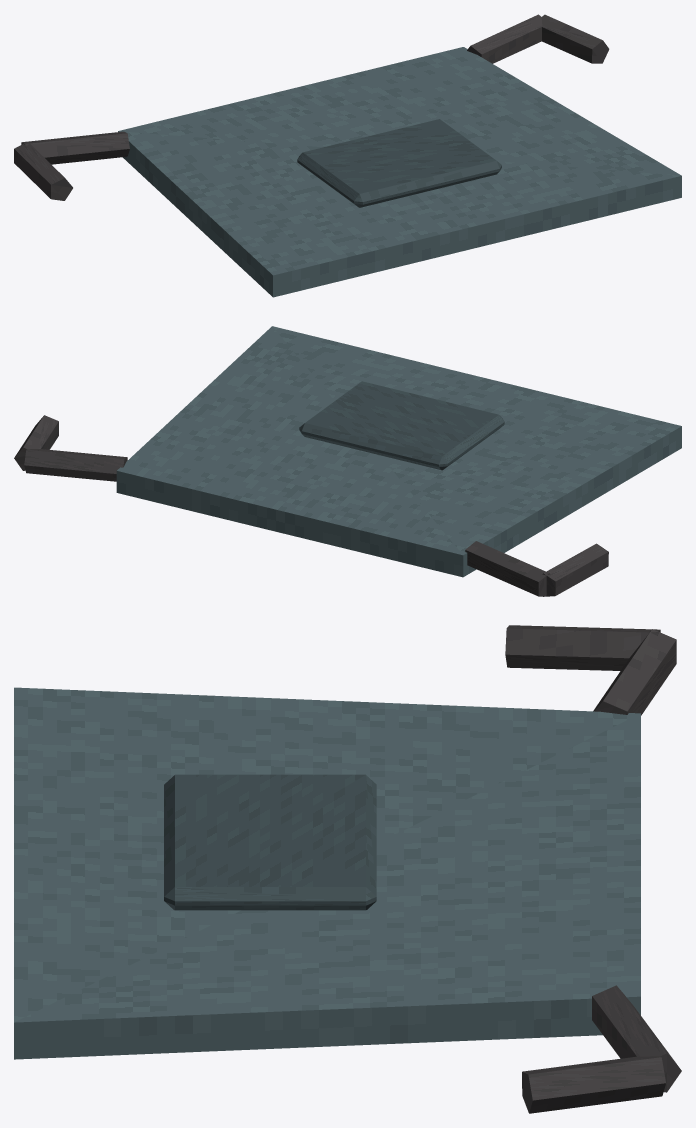
File: waist_apron_short.glb
3 renders of one model, top to bottom at view 1: azimuth 30°, elevation 25°; view 2: azimuth 150°, elevation 25°; view 3: azimuth 270°, elevation 25°, orthographic. The views are drawn at different scales.
Visible parts, largest first — view 1: block_waist apron, block_front pocket, block_waist ties 0 (×2), block_waist ties 1 (×2); view 2: block_waist apron, block_front pocket, block_waist ties 0 (×2), block_waist ties 1 (×2); view 3: block_waist apron, block_front pocket, block_waist ties 1 (×2), block_waist ties 0 (×2).
Part boxes in pixels (x1,y1,x2,y2): block_waist apron: [118, 47, 681, 297]; block_front pocket: [297, 119, 501, 207]; block_waist ties 0 (×2): [21, 14, 542, 164]; block_waist ties 1 (×2): [14, 14, 609, 200]; block_waist apron: [116, 326, 681, 577]; block_front pocket: [299, 381, 504, 470]; block_waist ties 0 (×2): [24, 449, 550, 596]; block_waist ties 1 (×2): [14, 415, 608, 596]; block_waist apron: [14, 687, 640, 1059]; block_front pocket: [164, 774, 376, 910]; block_waist ties 1 (×2): [505, 625, 665, 1113]; block_waist ties 0 (×2): [592, 629, 681, 1092].
Bounding box in the file's own units: 0.3347 × 0.0202 × 0.204.
Materials: 1 (1 with a texture image).
